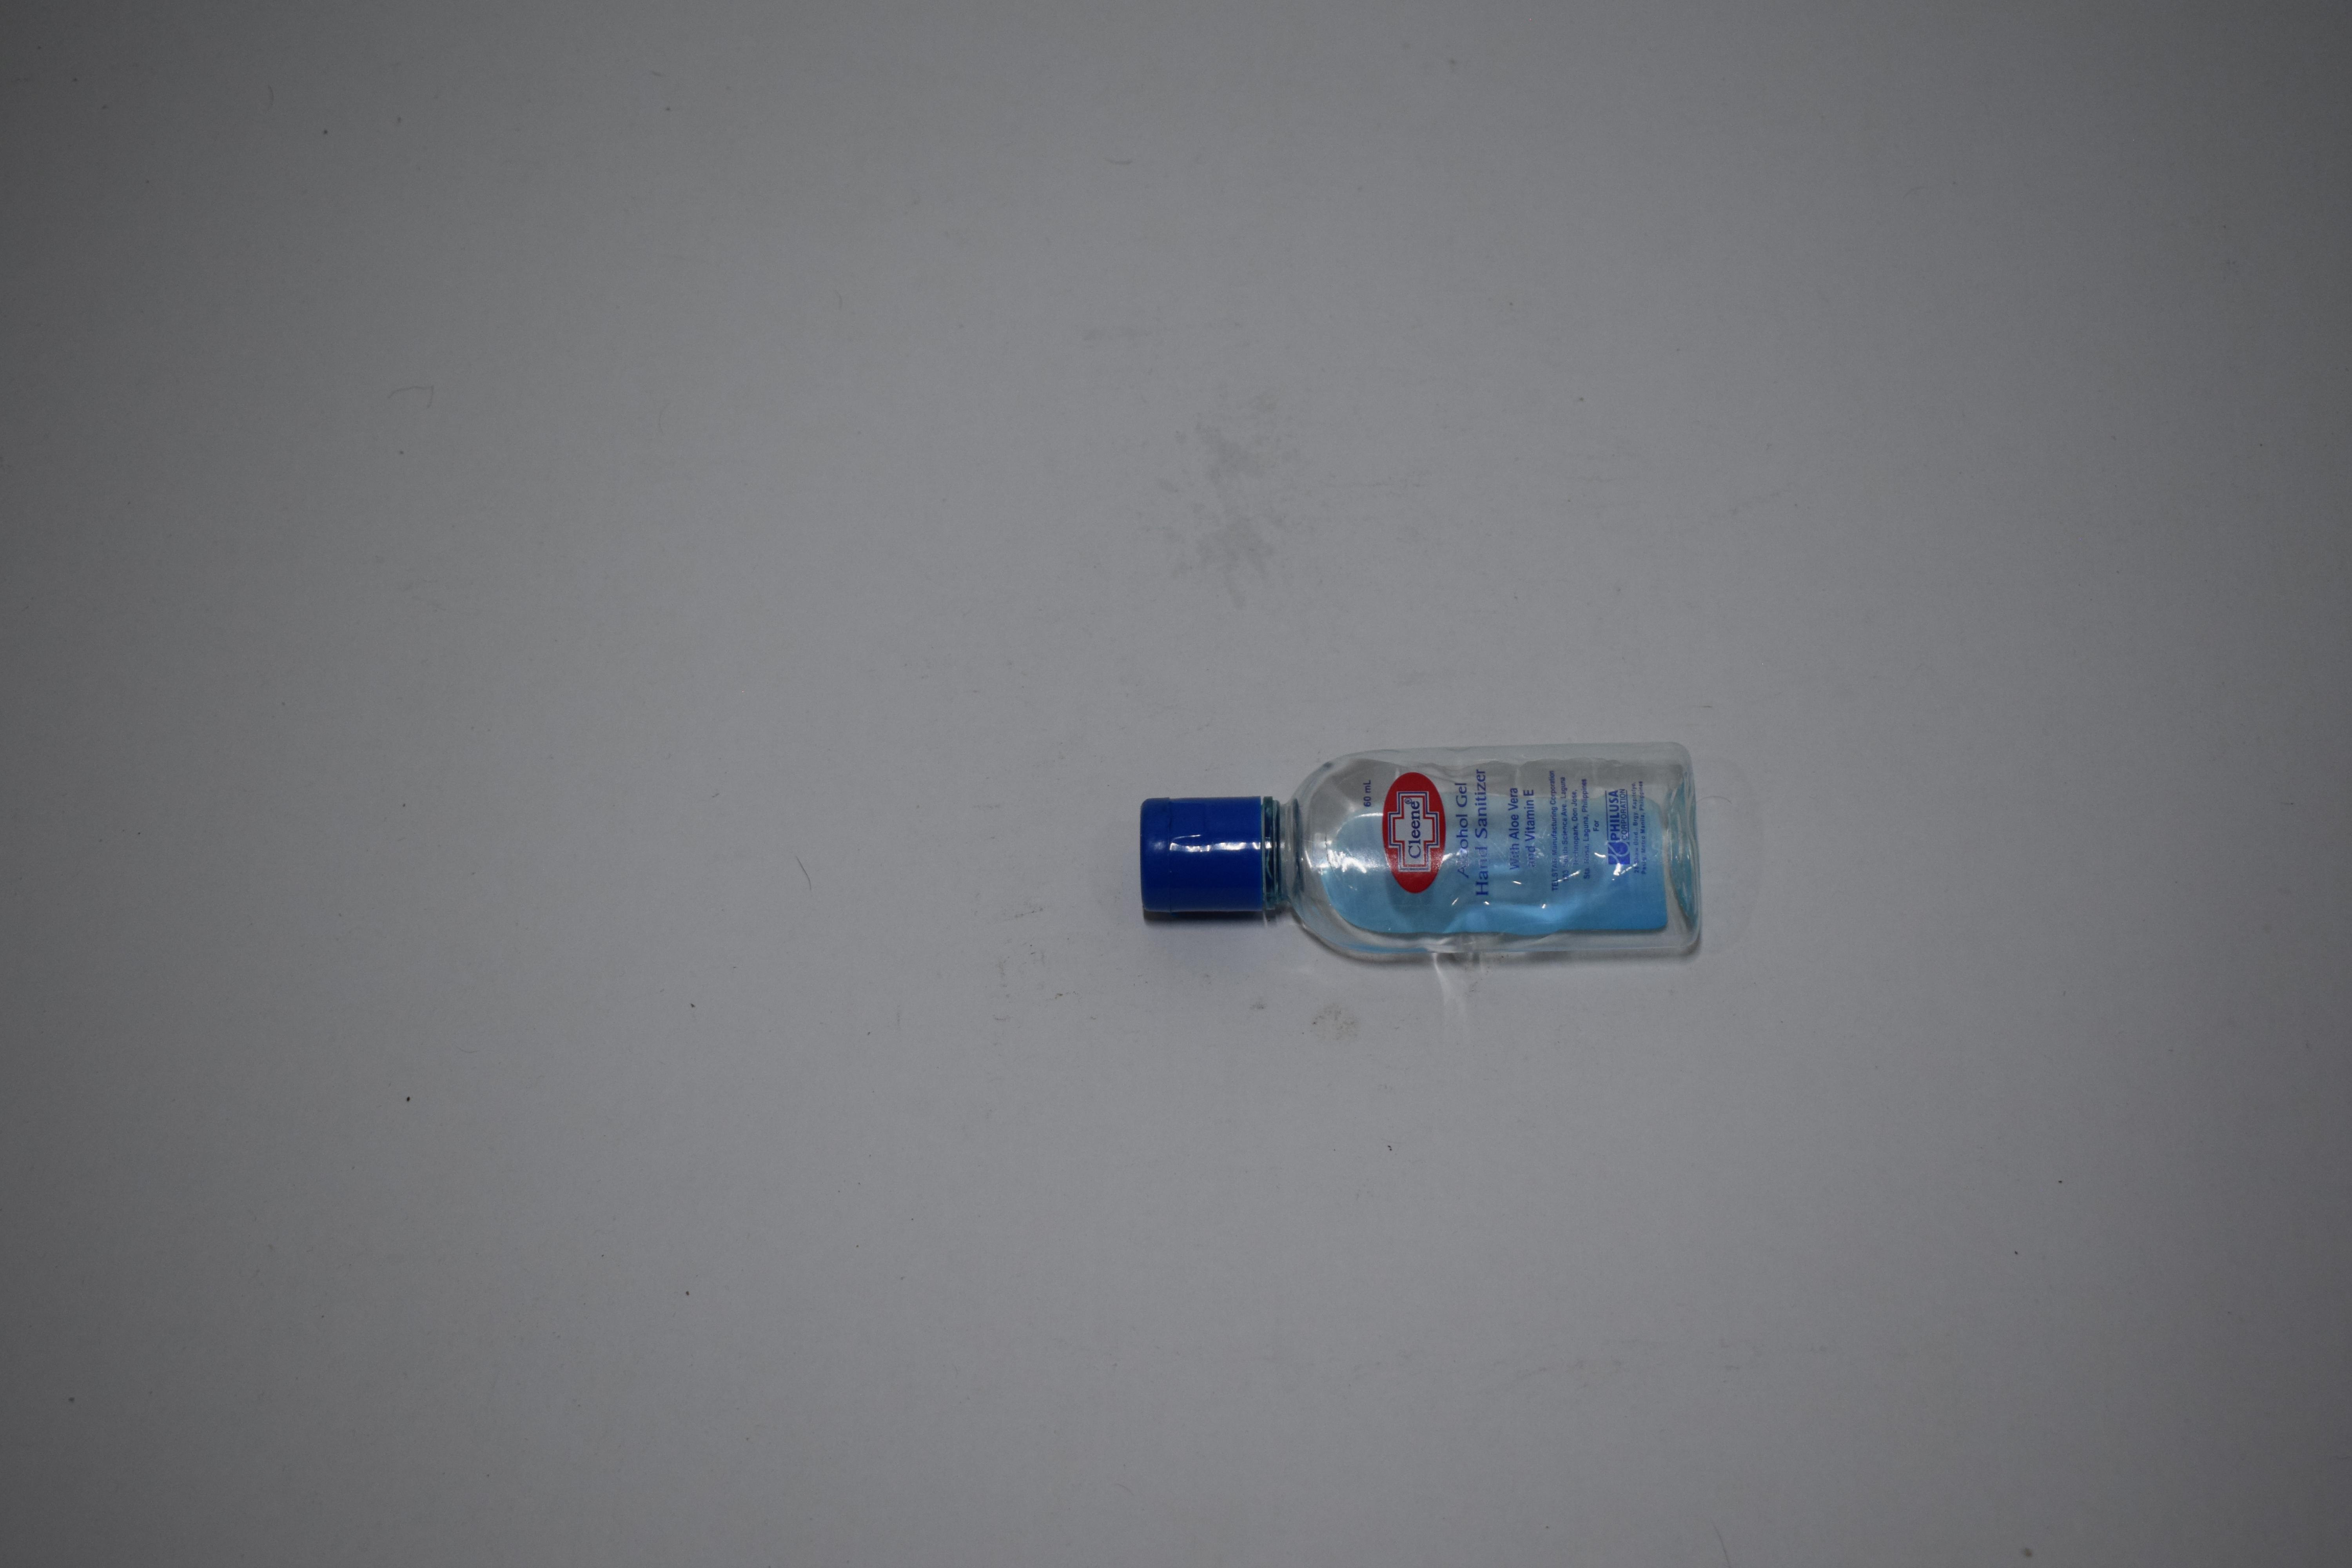bottle: (1129, 0, 1701, 152)
